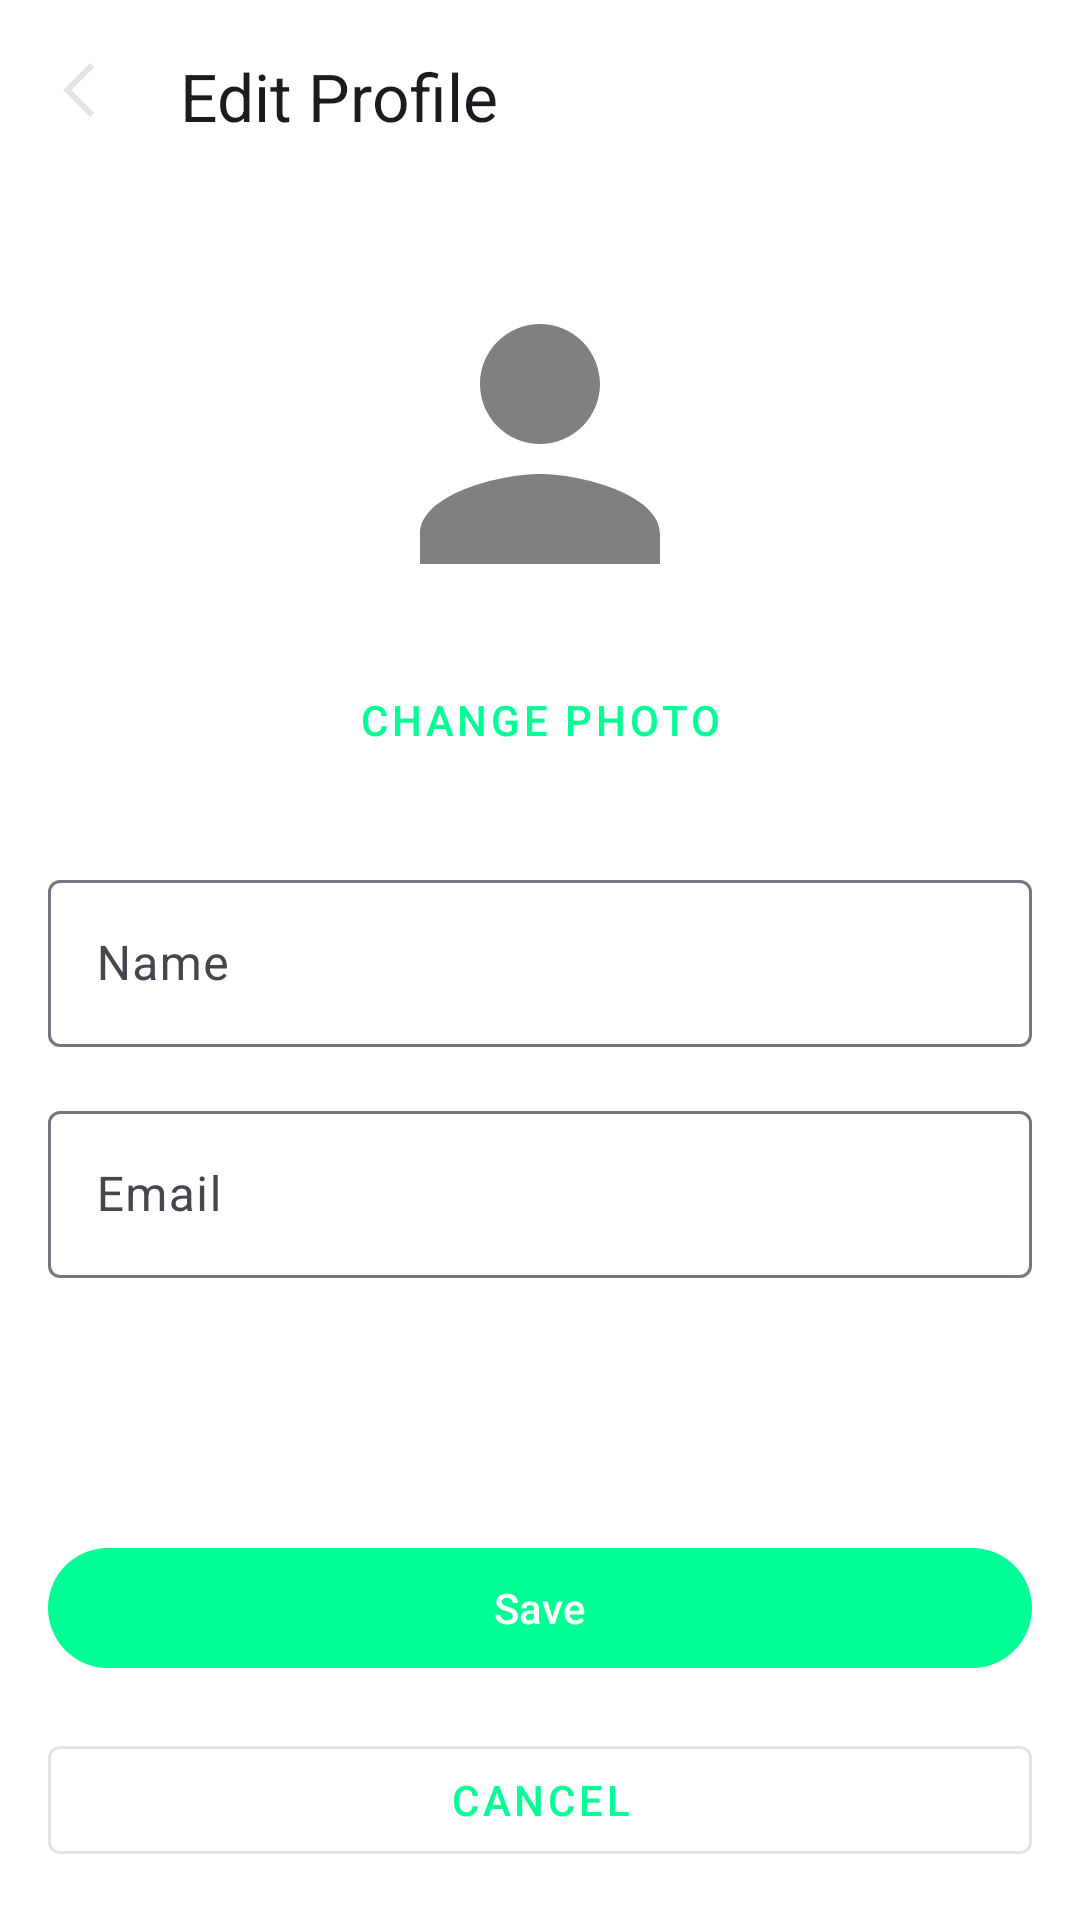

Icon click points for this 1080w x 1920h phone screenshot, format [x,y]:
profile pic: [540,444]
